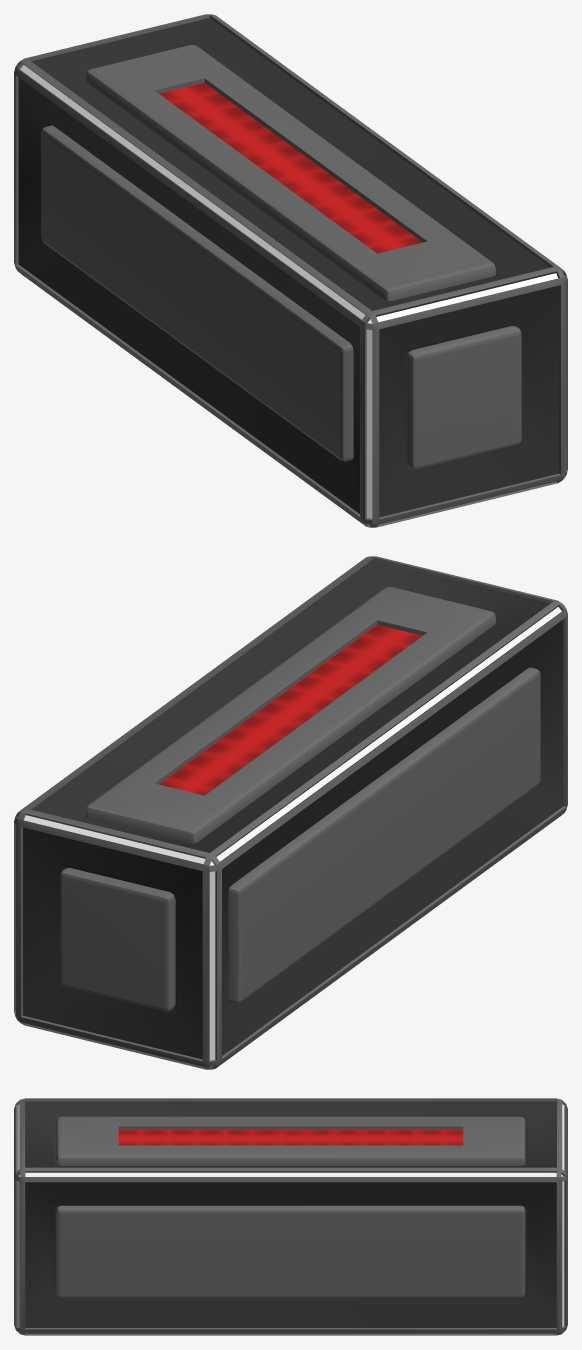
The model's file is Rounded_Crate_1x3.fbx.
3 views of the same model, one above another, from view 1: azimuth 30°, elevation 25°; view 2: azimuth 150°, elevation 25°; view 3: azimuth 270°, elevation 25° (orthographic). The views are drawn at different scales.
Parts seen in each view (by area): view 1: Rounded_Crate_1x3; view 2: Rounded_Crate_1x3; view 3: Rounded_Crate_1x3.
Part boxes in pixels (box(x1,y1,x2,y2)): Rounded_Crate_1x3: box(14, 14, 567, 527); Rounded_Crate_1x3: box(14, 556, 567, 1069); Rounded_Crate_1x3: box(14, 1098, 567, 1335).
Bounding box in the file's own units: 97.55 × 97.55 × 293.
